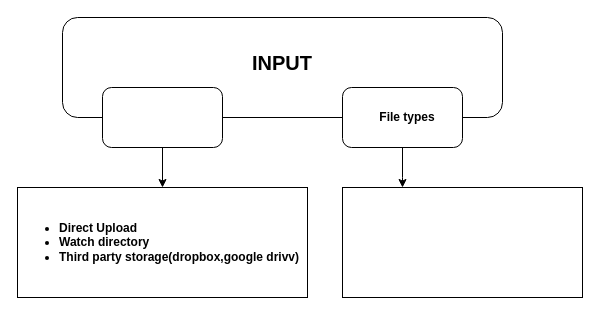
This 600x315 diagram has some shape labels left out. The shapes that lost their labels are listed below. From the top down, each one's centre as x and y in pixels, then its label:
point 162,117: Source
point 462,242: Images (JPEG,PNG,TIFF) PDF
